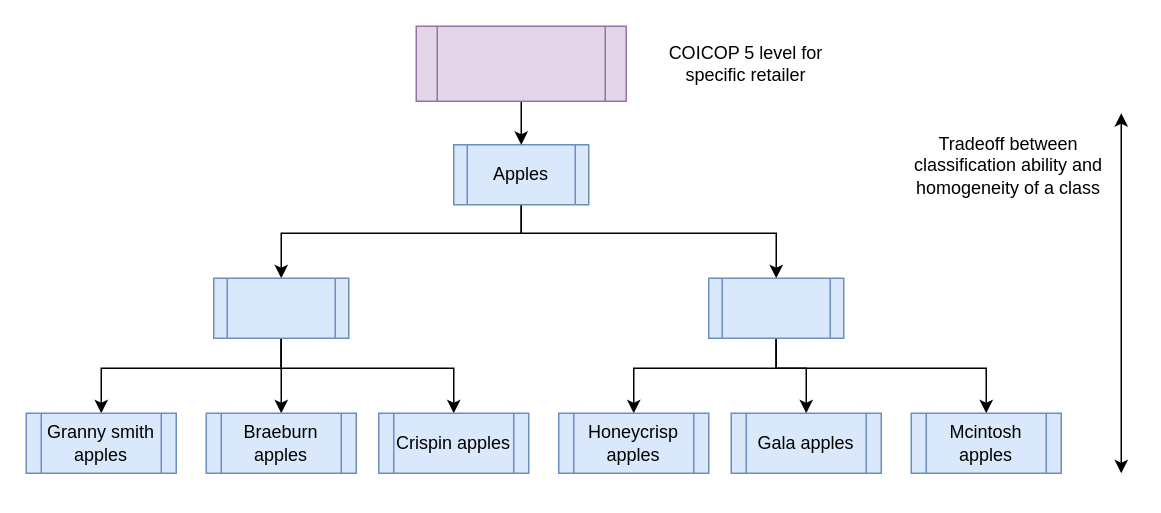
This 1161x513 diagram has some shape labels left out. The centre of each missing label's shape, as x and y in pixels:
0.1.1.6.3 - Stone fruits and pome fruits, fresh: the point at 520,63
Green apples: the point at 280,307
Red Apples: the point at 775,307
